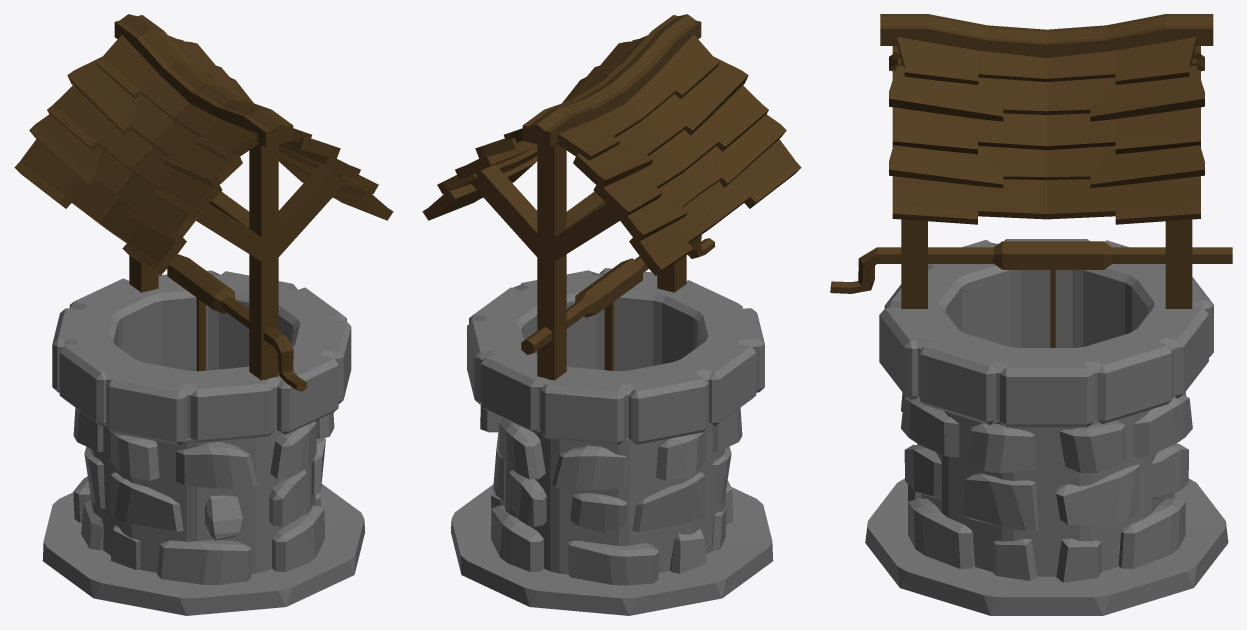
The model's file is Well.fbx.
3 views of the same model, side by side, from view 1: azimuth 30°, elevation 25°; view 2: azimuth 150°, elevation 25°; view 3: azimuth 270°, elevation 25° (orthographic). The views are drawn at different scales.
Parts seen in each view (by area): view 1: Well; view 2: Well; view 3: Well.
Part boxes in pixels (x1,y1,x2,y2): Well: (14, 14, 393, 615); Well: (422, 14, 801, 615); Well: (830, 14, 1232, 615).
Bounding box in the file's own units: 1.28 × 2.15 × 1.49.
